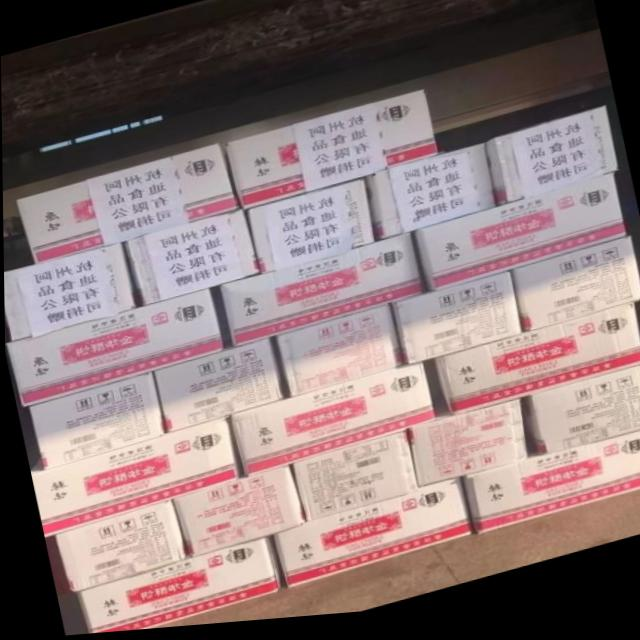box: (14, 150, 239, 265), (409, 184, 625, 301), (222, 98, 440, 213), (7, 291, 224, 405), (33, 422, 238, 536), (216, 237, 422, 350), (220, 371, 433, 479), (436, 313, 640, 422), (268, 488, 471, 593), (74, 545, 279, 635), (459, 441, 640, 541), (3, 244, 139, 342), (507, 245, 640, 342), (483, 117, 617, 212), (124, 214, 256, 309), (31, 373, 161, 469), (150, 342, 280, 437), (172, 469, 306, 561), (391, 279, 518, 373), (51, 504, 186, 592), (249, 184, 374, 278), (274, 311, 403, 402), (369, 152, 492, 247), (291, 438, 415, 526), (523, 379, 640, 468), (406, 407, 525, 494)
